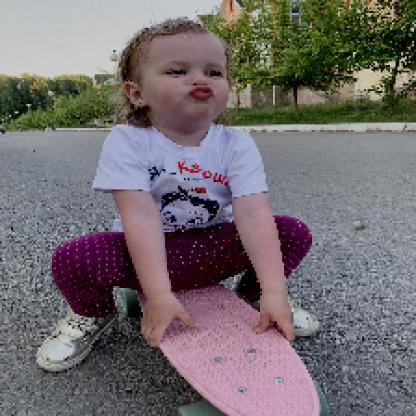child: (36, 18, 324, 375)
